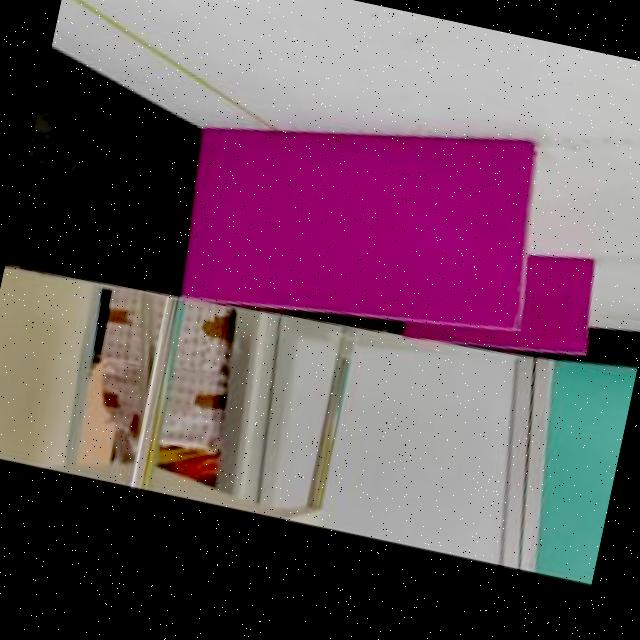xparking: (187, 129, 533, 329), (523, 255, 594, 354)
